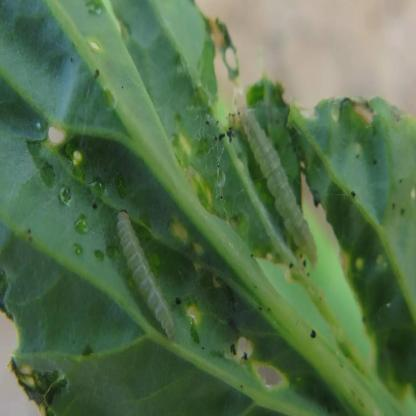armyworm: (230, 86, 320, 268), (113, 206, 178, 344)
